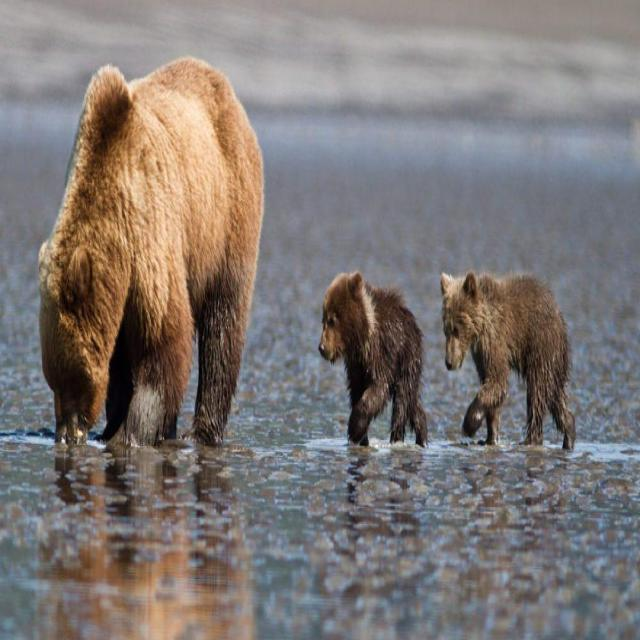Bear: (37, 57, 266, 450), (439, 272, 577, 454), (318, 273, 429, 449)
